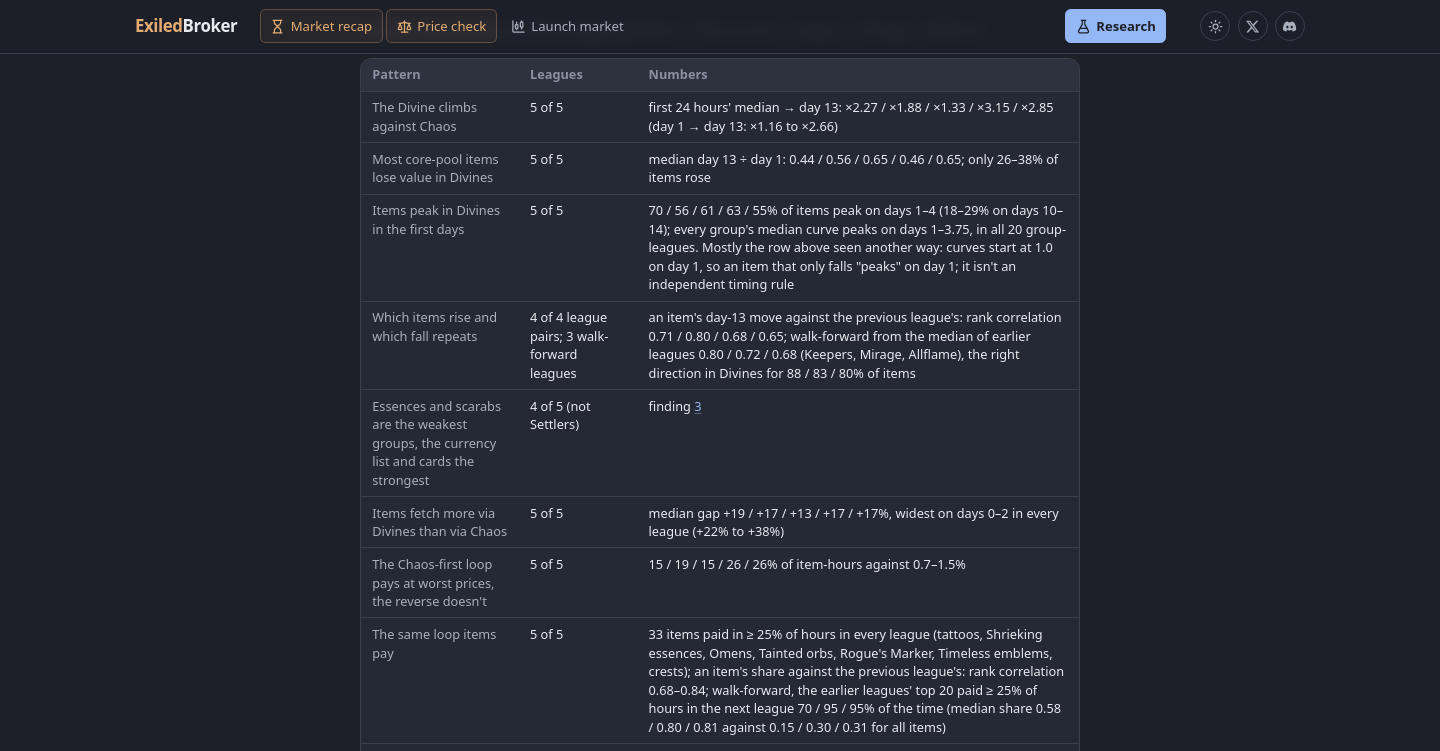
routes › reads a note, with the notes either side and where to use it
This screenshot has width=1440, height=751.
(page scrolled)
Note: A link inside the note to another note stays in the app.
Click the link "3". click: (698, 406)
box: [694,397,702,415]
(page scrolled)
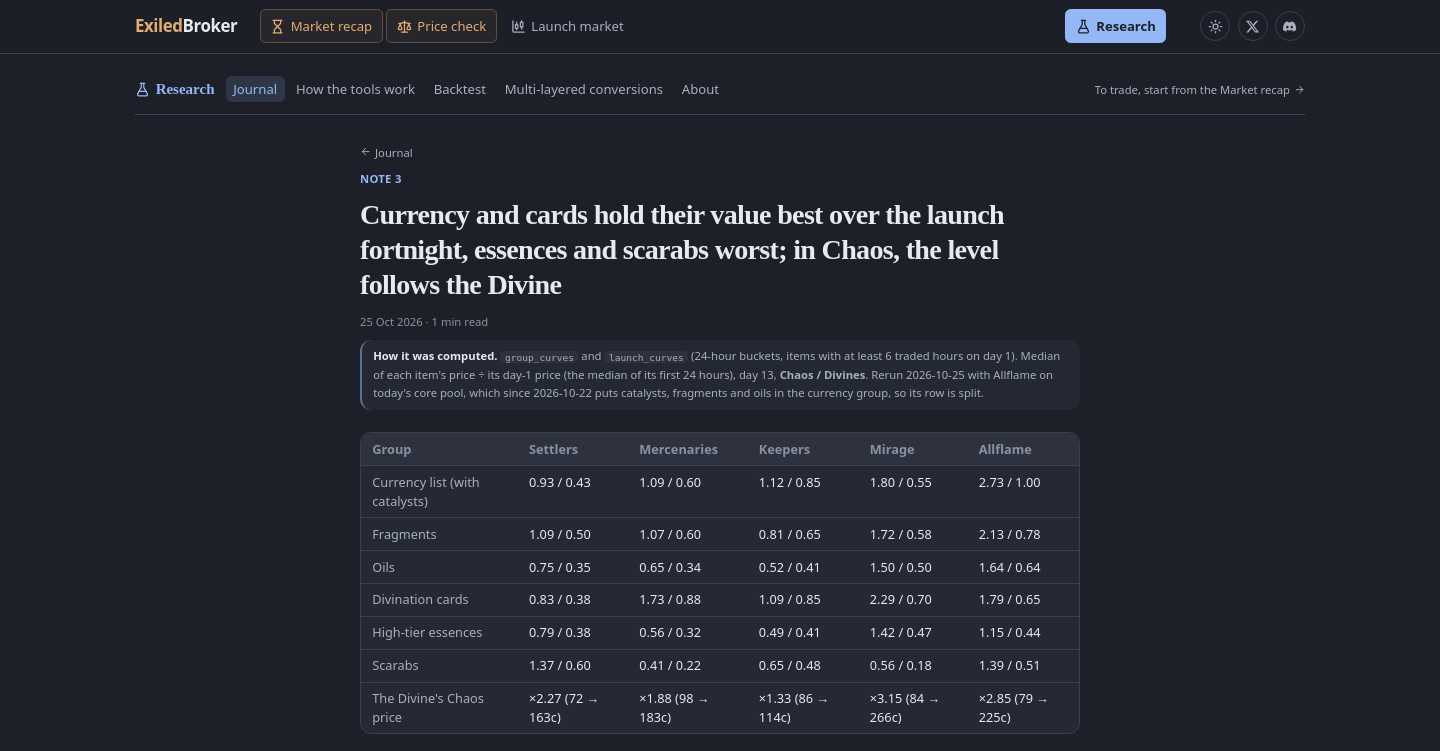
Expected: the heading "Currency and cards hold their value best" is shown, [360,197,1080,302]
